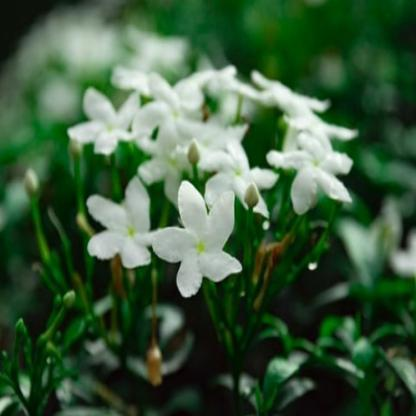Melati: (74, 75, 343, 275)
